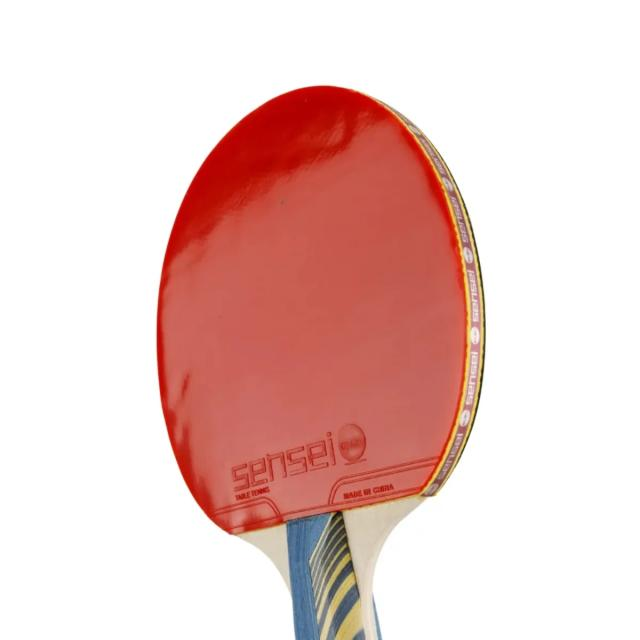TT Racket: (85, 26, 556, 616)
